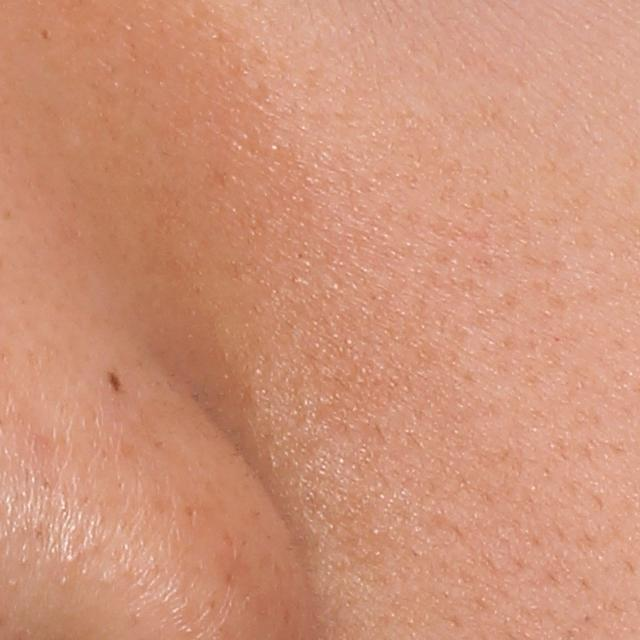nevus: (100, 367, 122, 396)
